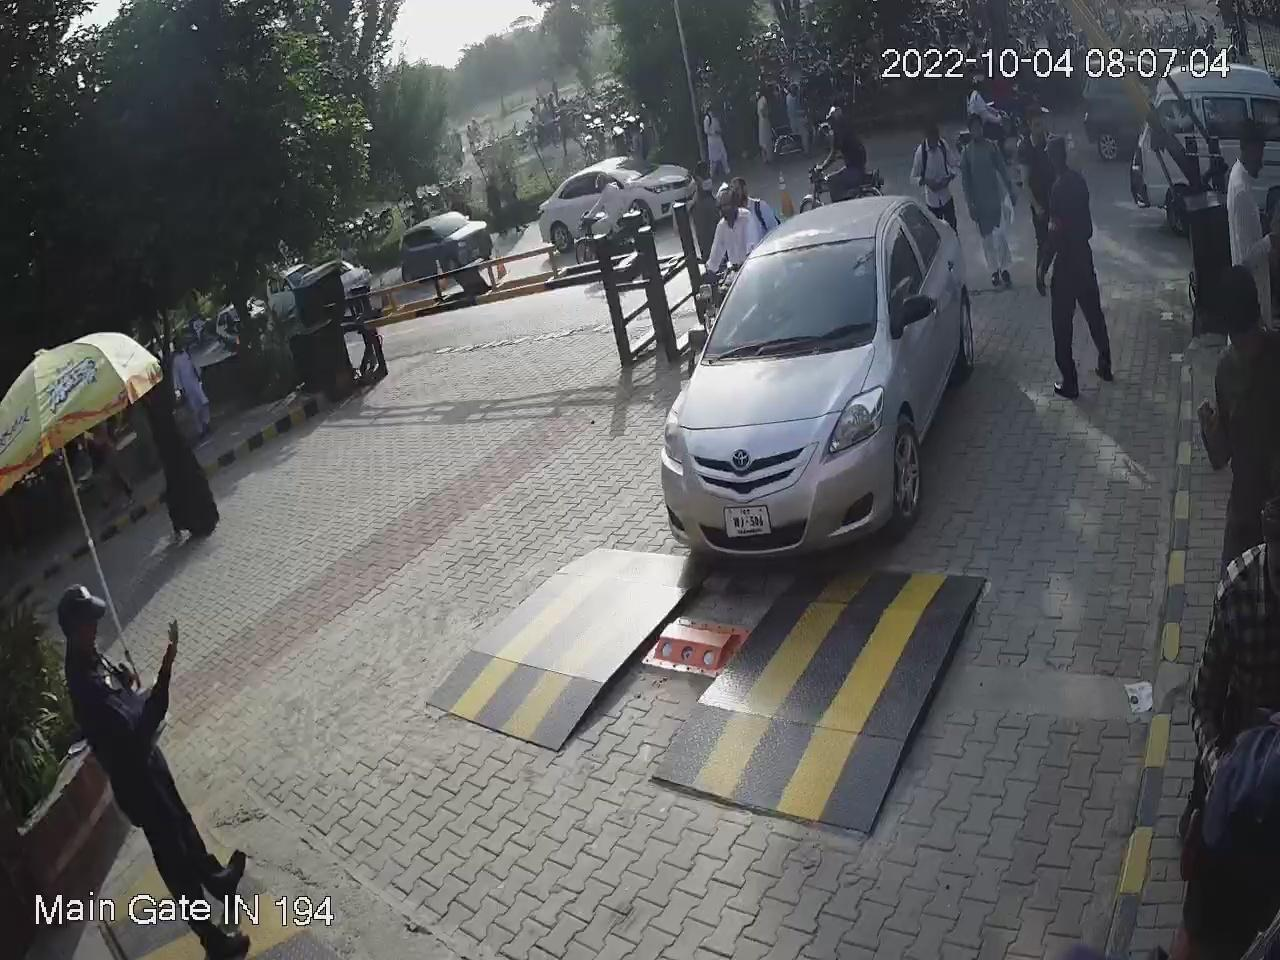windshield: (702, 233, 883, 358)
